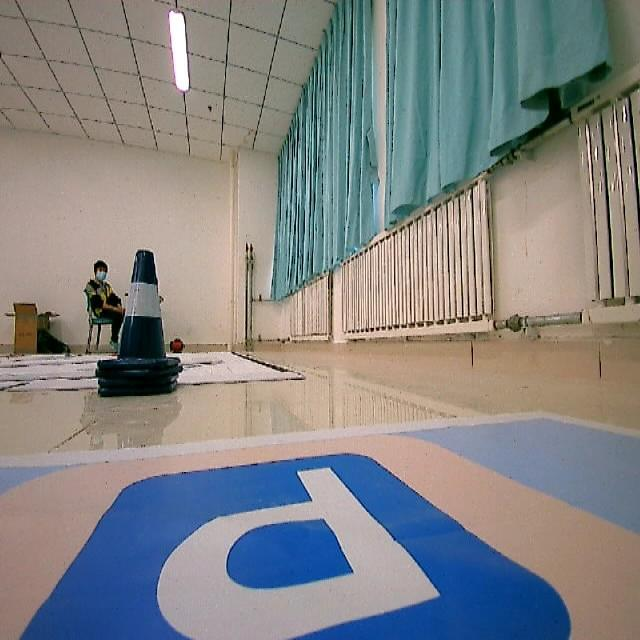obstacle: (91, 239, 182, 401)
